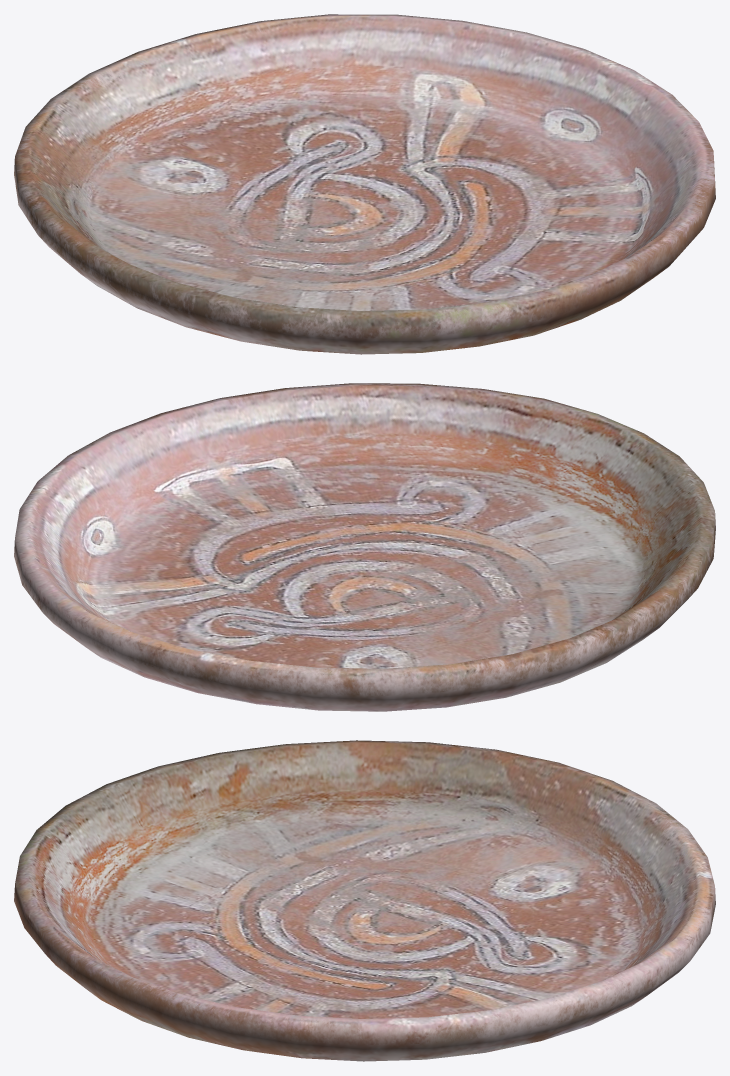
Rendered from PolicromoBanderas.gltf.
3 renders of one model, top to bottom at view 1: azimuth 30°, elevation 25°; view 2: azimuth 150°, elevation 25°; view 3: azimuth 270°, elevation 25°, orthographic. The views are drawn at different scales.
Visible parts, largest first — view 1: PolicromoBanderas; view 2: PolicromoBanderas; view 3: PolicromoBanderas.
Part boxes in pixels (x1,y1,x2,y2): PolicromoBanderas: (14,14,715,354); PolicromoBanderas: (14,383,715,711); PolicromoBanderas: (14,740,715,1061).
Size of the model in its own units: 27.68 by 3.17 by 28.57.
1 material, 1 textured.
